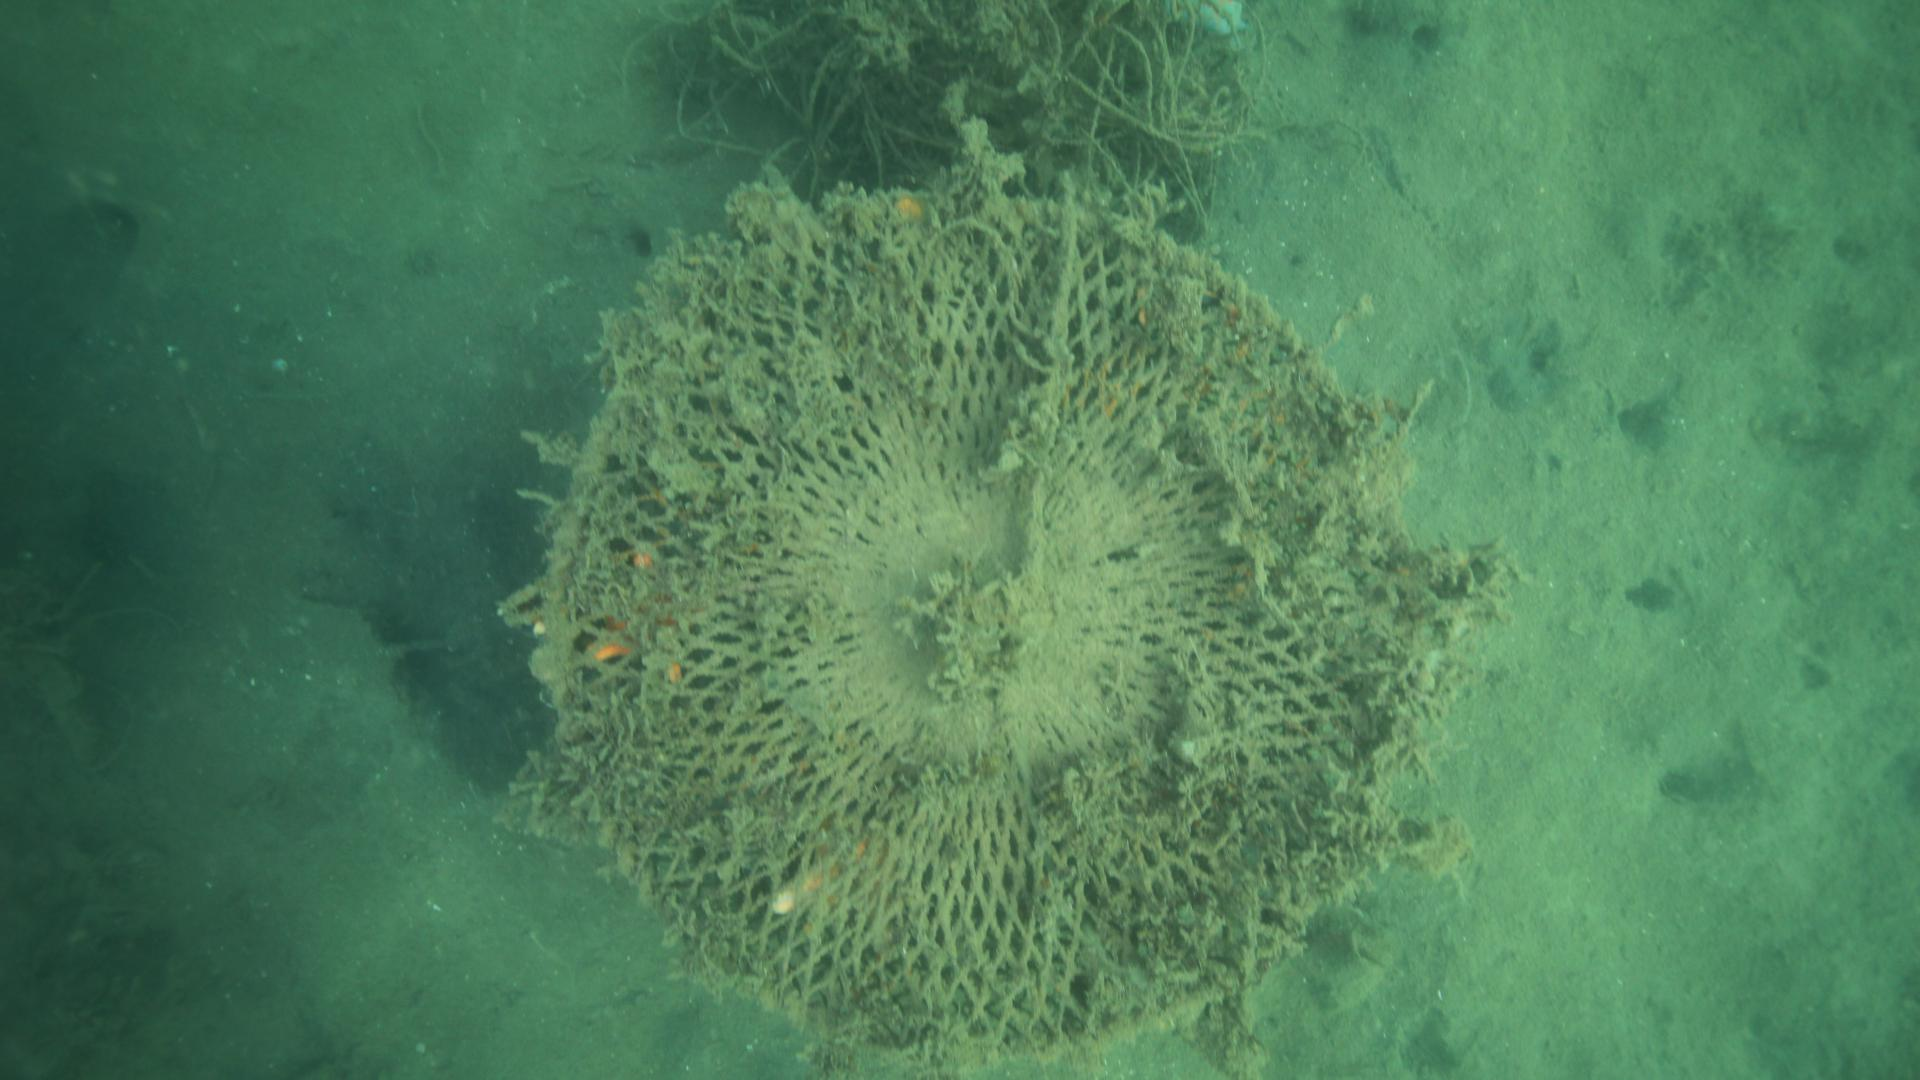circular fish trap: (525, 164, 1439, 1059)
